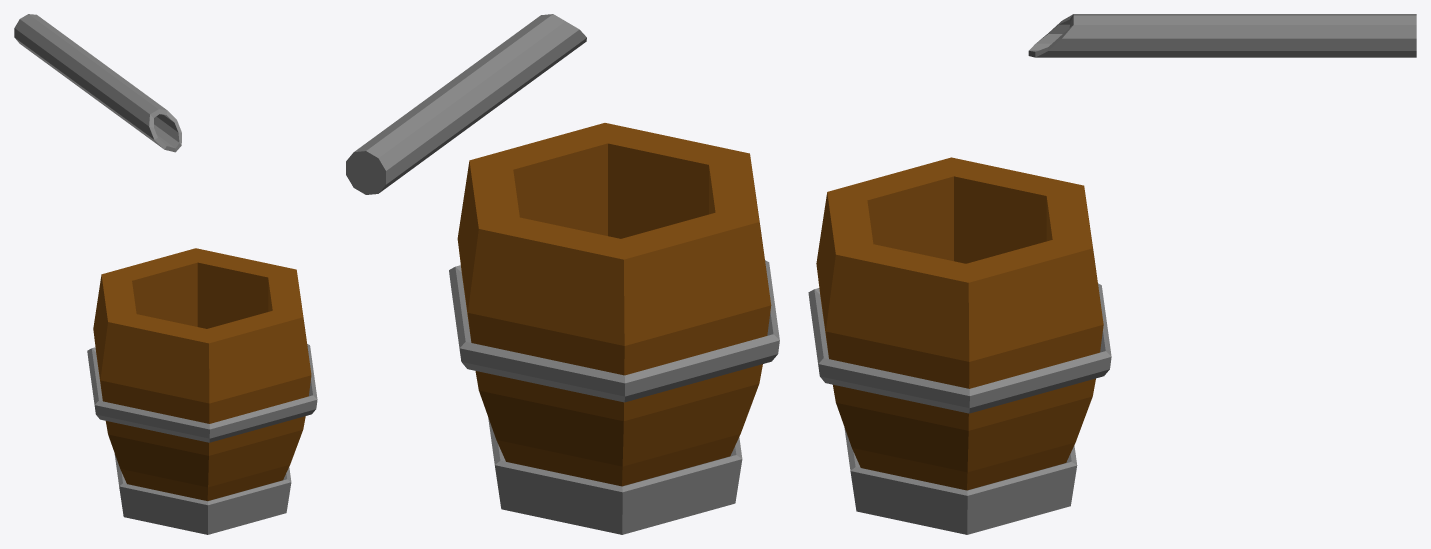
File: Sap_Extractor.fbx
3 views of the same model, side by side, from view 1: azimuth 30°, elevation 25°; view 2: azimuth 150°, elevation 25°; view 3: azimuth 270°, elevation 25° (orthographic). The views are drawn at different scales.
Visible parts, largest first — view 1: Cylinder.605; view 2: Cylinder.605; view 3: Cylinder.605.
Boxes of the visible parts, x1,y1,x2,y2 form: Cylinder.605: (14, 14, 317, 534); Cylinder.605: (346, 14, 779, 534); Cylinder.605: (808, 14, 1416, 534).
Bounding box in the file's own units: 2787 × 4237 × 5004.
